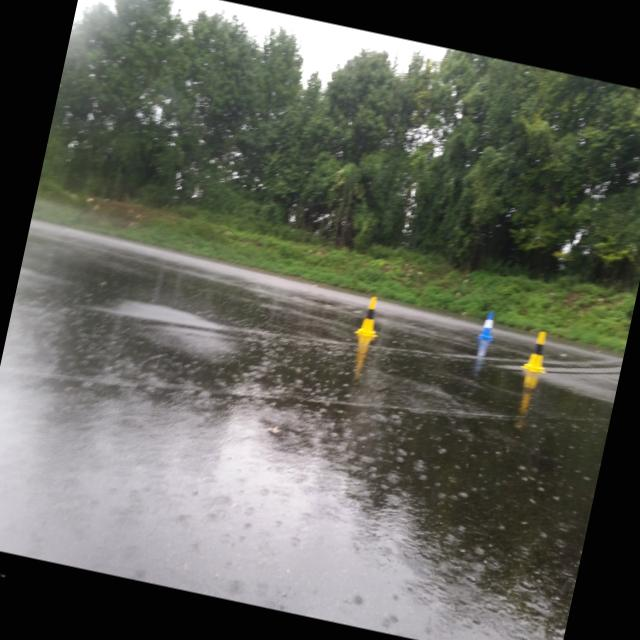blue_cone: (476, 309, 498, 341)
yellow_cone: (520, 328, 554, 374), (354, 294, 386, 338)
